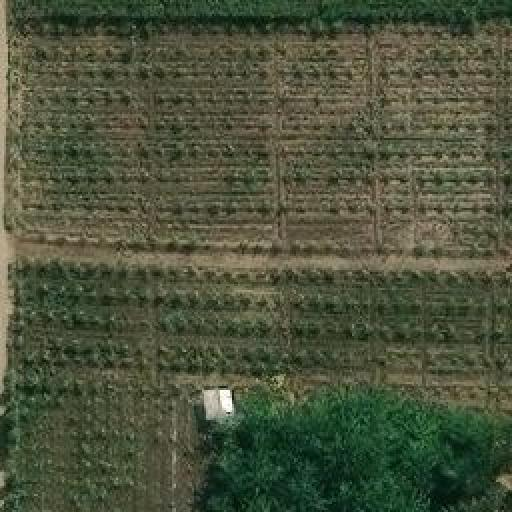manzanas: (196, 387, 243, 432)
